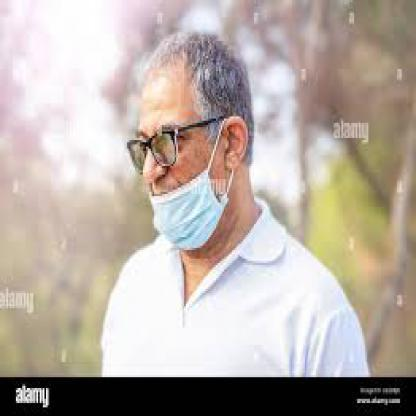mask_weared_incorrect: (125, 55, 251, 253)
